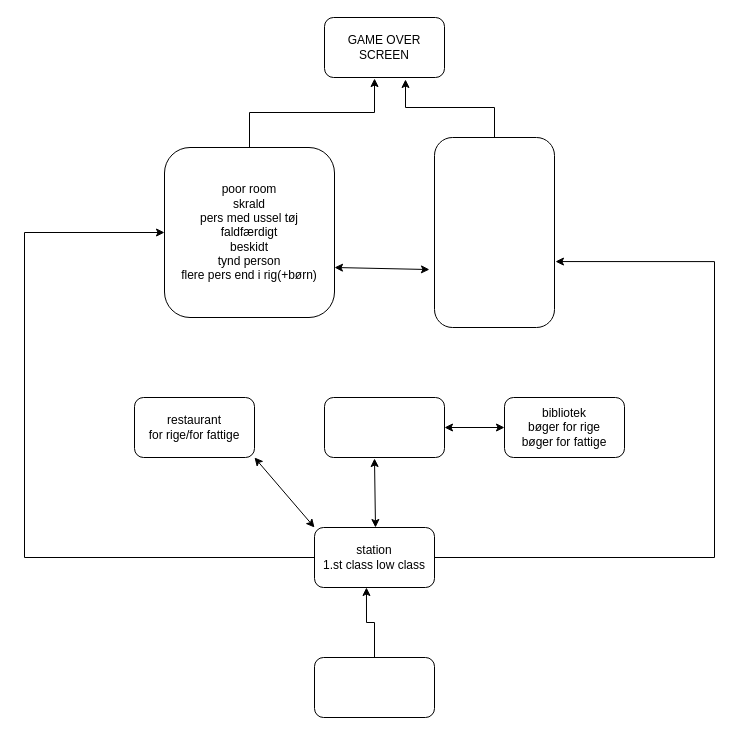
Image size: 740x735. Some labels were removed from this diagram. Each missing label, with the centre of its shape:
"I byen / tutorial room" goes at point 374,687.
"rich room rich person big bed $$ poser med penge Bil swimmingpool" goes at point 494,232.
"Skole socaile klasser går i skole/gå ikke" goes at point 384,427.
